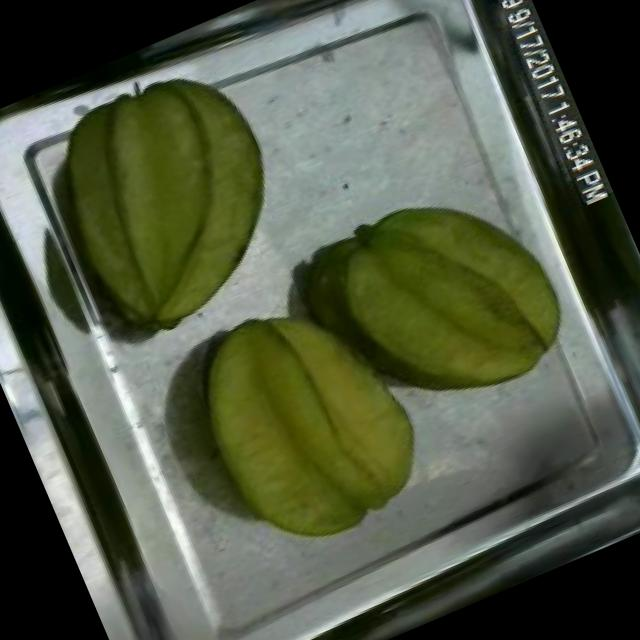fruit: (15, 41, 322, 364), (157, 258, 456, 583), (300, 152, 596, 448)
